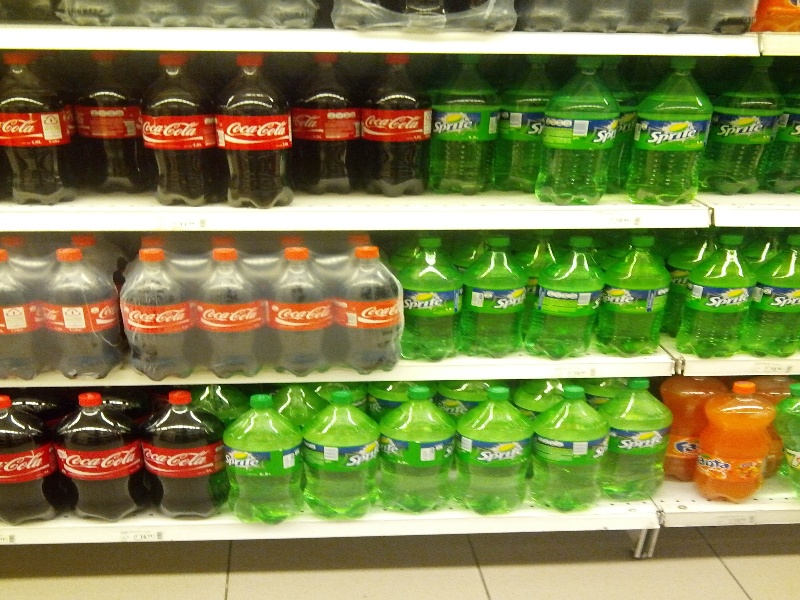lemonade: (143, 48, 222, 210), (219, 53, 303, 203), (1, 51, 83, 204), (54, 393, 149, 522), (633, 56, 707, 209), (535, 59, 612, 206), (142, 390, 227, 520), (427, 54, 502, 200), (217, 395, 303, 519), (117, 250, 197, 376), (261, 245, 337, 377), (361, 52, 427, 197), (195, 248, 268, 378), (455, 389, 527, 516), (533, 387, 607, 510), (601, 234, 674, 358), (305, 390, 372, 524), (677, 232, 749, 356), (378, 392, 451, 513), (532, 237, 599, 364), (396, 235, 464, 360), (337, 243, 401, 375), (603, 380, 668, 509), (465, 235, 531, 355), (700, 384, 767, 502)
